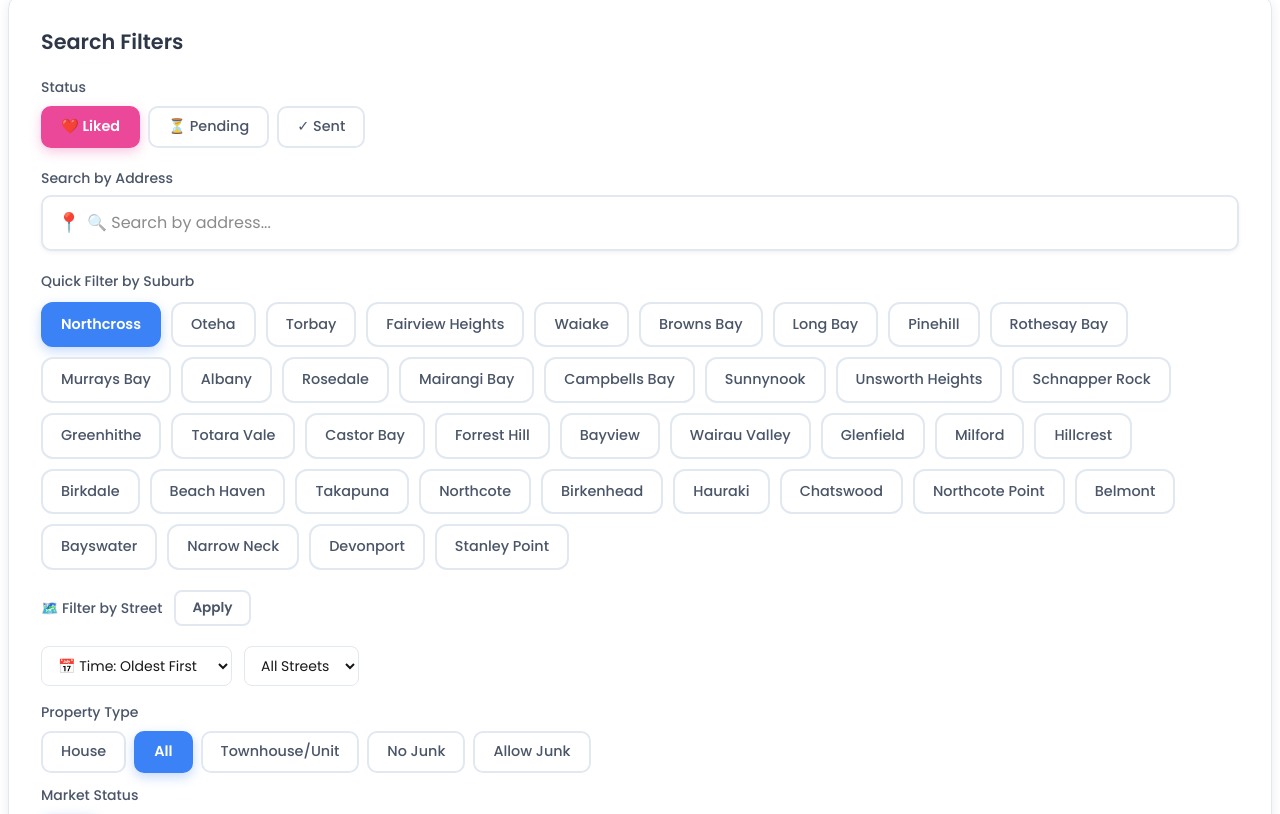
Outreach page › marks a pending address as sent when row button clicked
Click the button "⏳ Pending".
click(209, 127)  # box [148, 106, 269, 148]
(page scrolled)
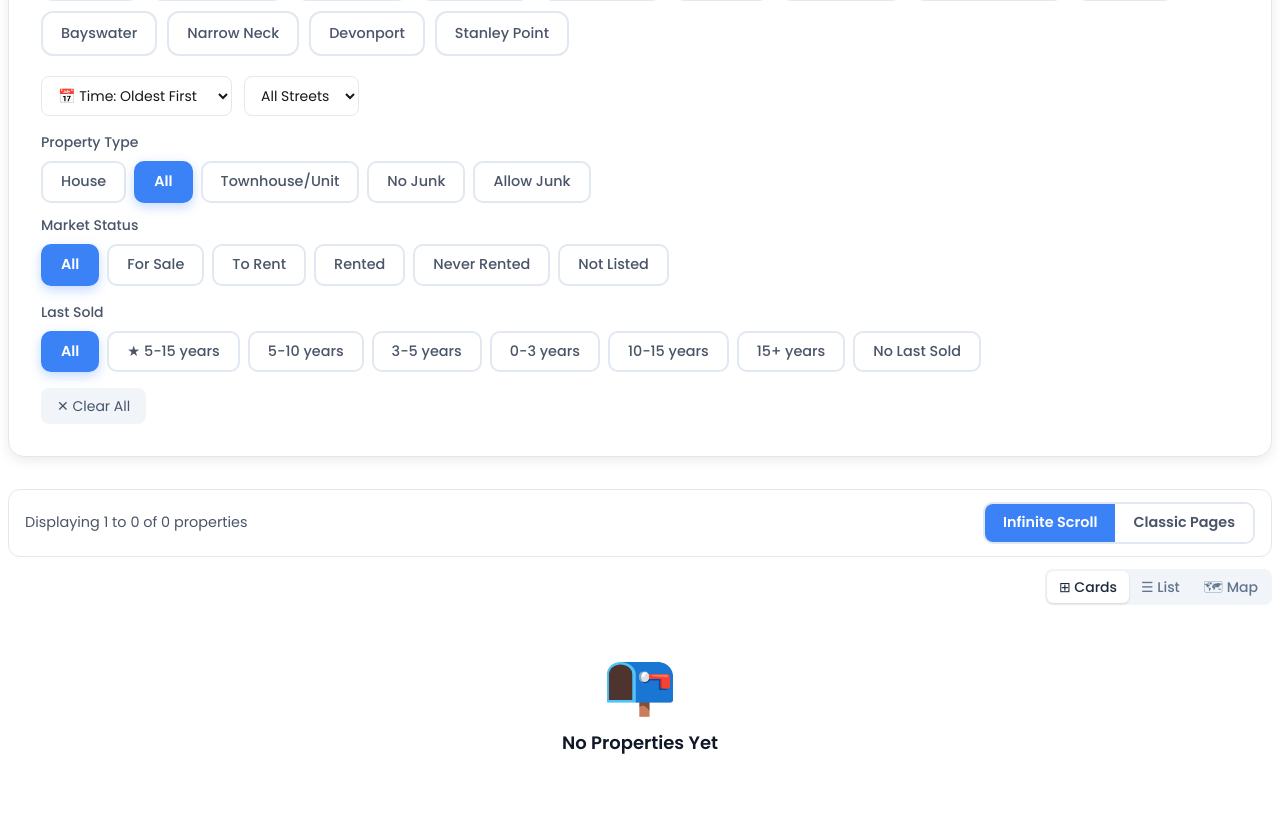
Click the button "☰ List".
click(1160, 587)  # box [1129, 571, 1192, 603]
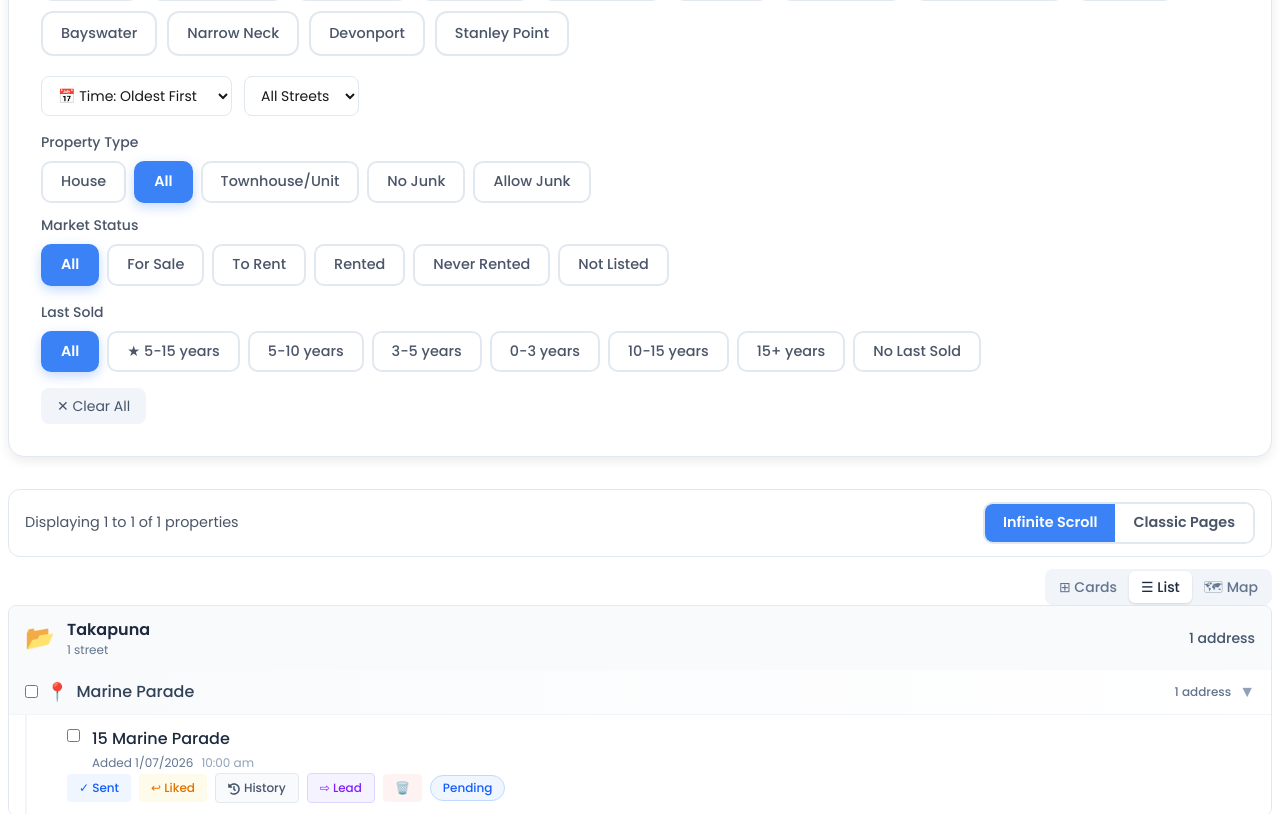
Expected: the text "Takapuna" is shown, [67, 618, 150, 642]
Click the button "✓ Sent".
click(99, 788)  # box [67, 774, 131, 802]
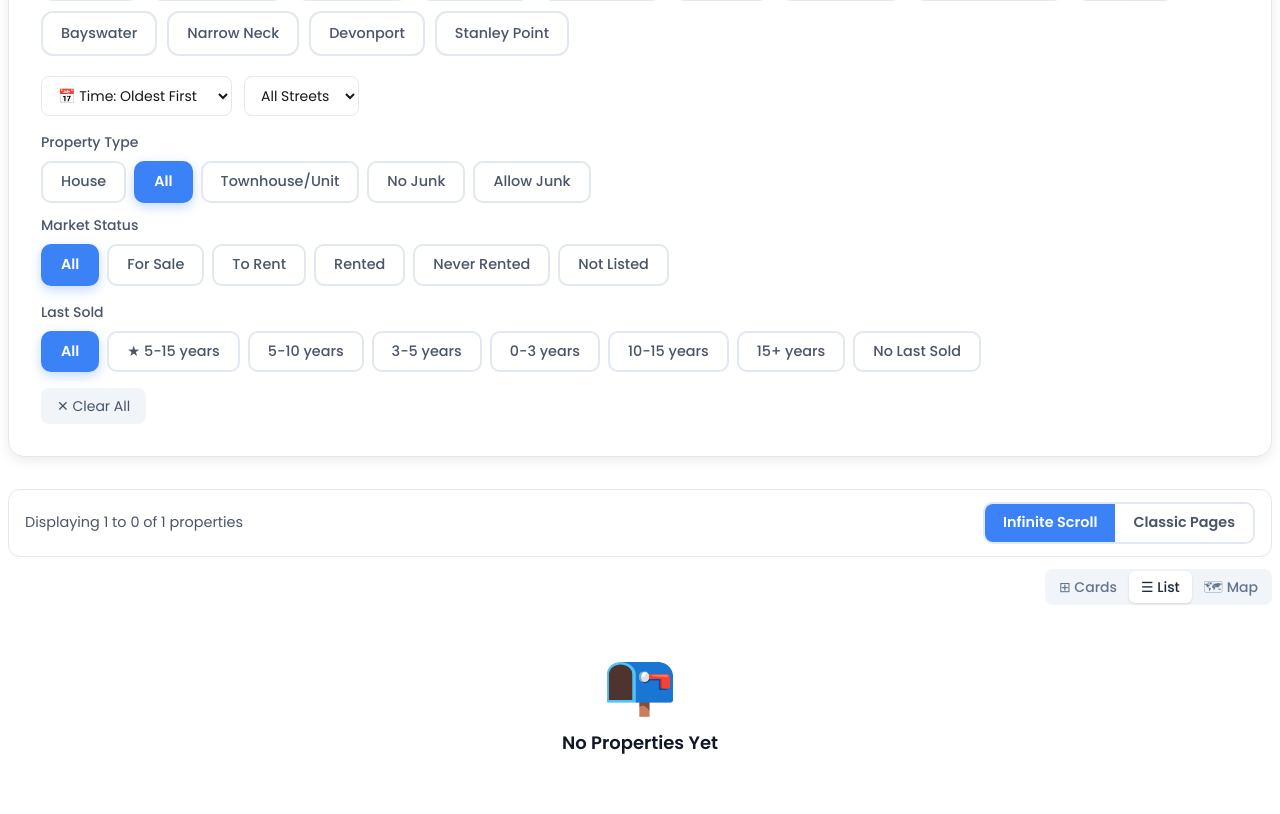
Expected: the text "15 Marine Parade" is gone
